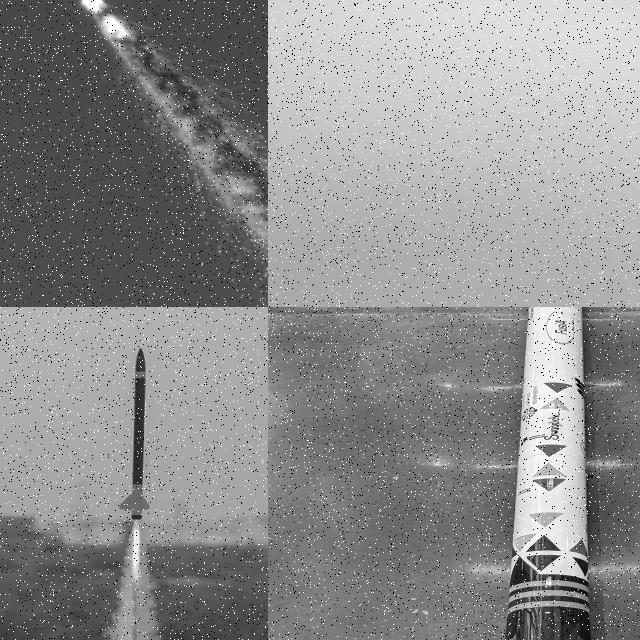Rocket: (504, 307, 594, 640), (120, 347, 150, 522)
